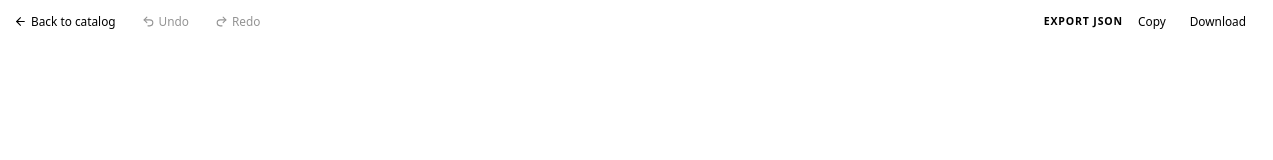
Scenario: LabFooter › does not report a successful copy when clipboard write fails
Click the button "Copy" at (1152, 22), box [1129, 8, 1175, 36]
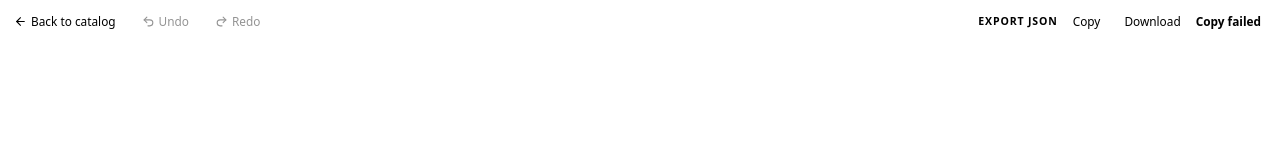
Check: the message does not show "copied", box [1196, 13, 1261, 31]
Check: the message reads "Copy failed", box [1196, 13, 1261, 29]
